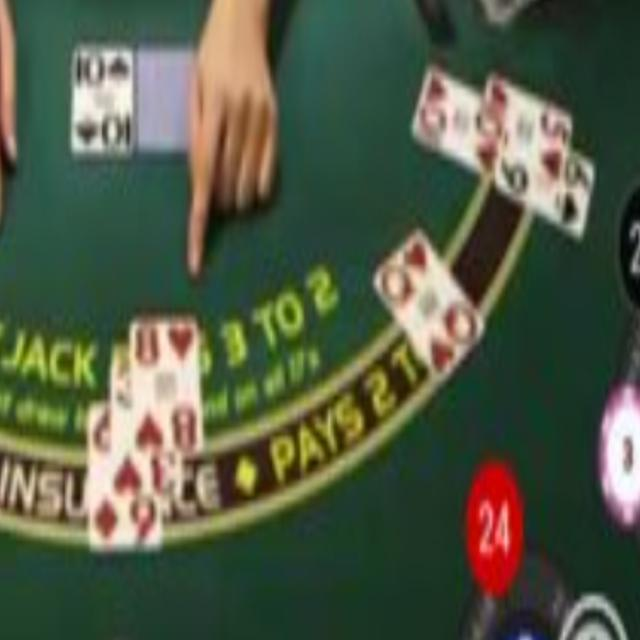Card-10: (71, 42, 133, 158)
Card-3: (111, 352, 179, 499)
Card-5: (484, 68, 572, 185)
Card-6: (89, 399, 160, 549), (495, 146, 595, 242)
Card-8: (133, 323, 202, 453)
Card-Q: (373, 224, 484, 388), (412, 60, 515, 181)
